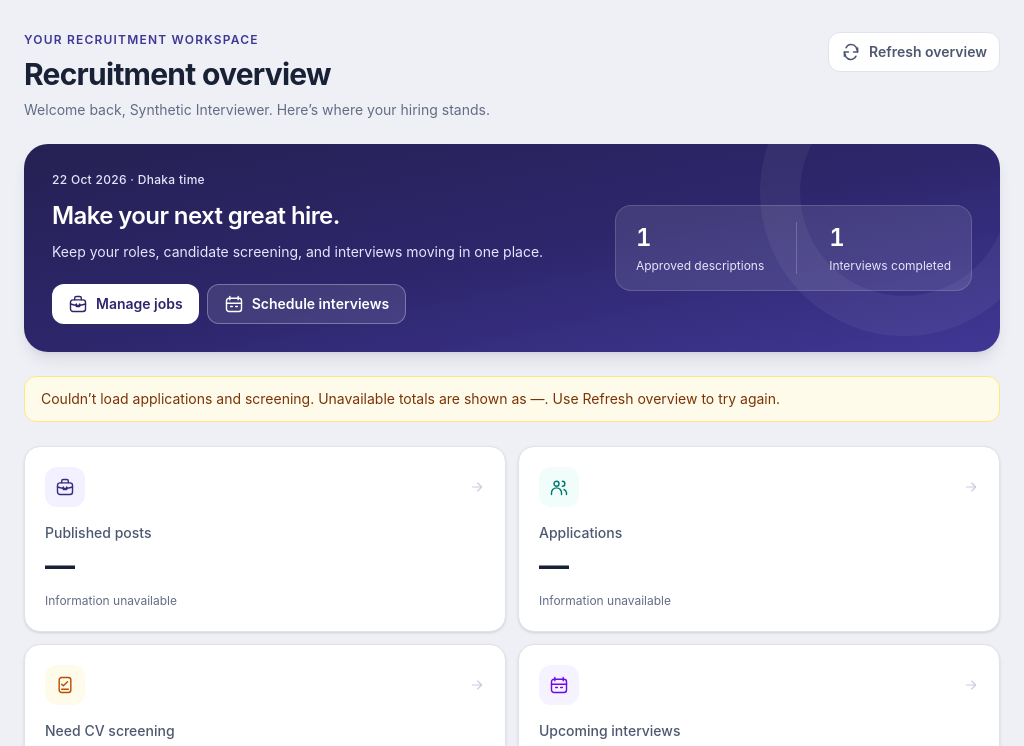
preserves successful sections when one source fails and recovers on explicit refresh
Expected: the message shows "applications and screening", [132,390,310,407]
Click the button "Refresh overview": (914, 52) [828,32,1000,72]
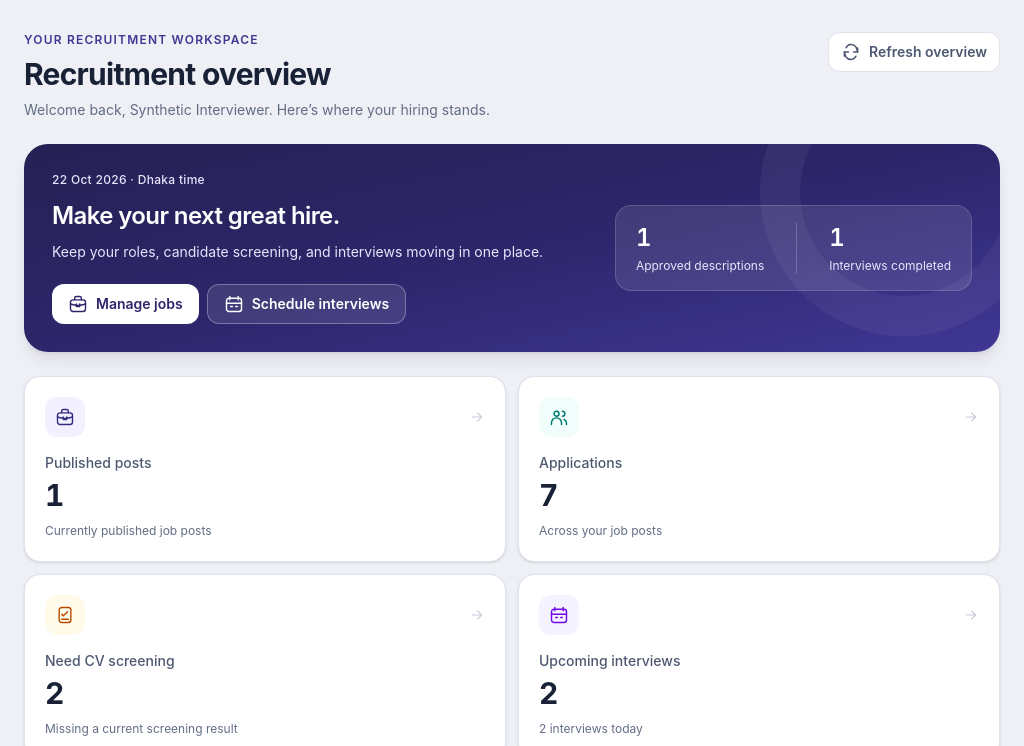
Now the message is gone
